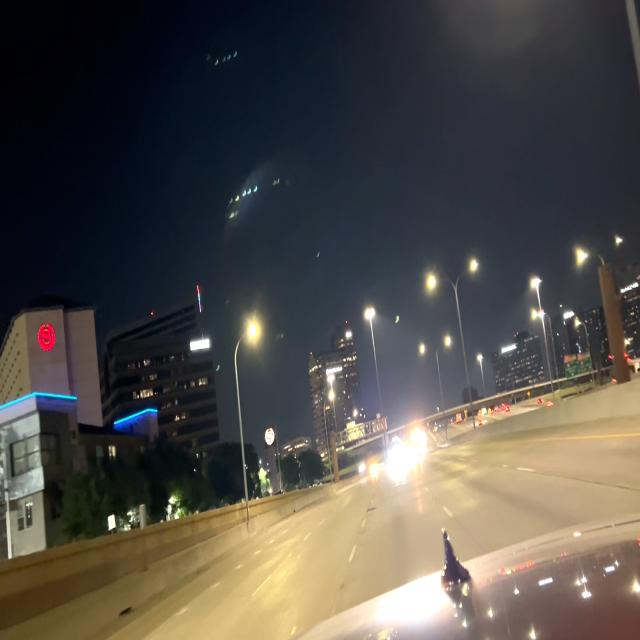back-of-sign: (346, 418, 366, 442), (371, 412, 388, 437)
